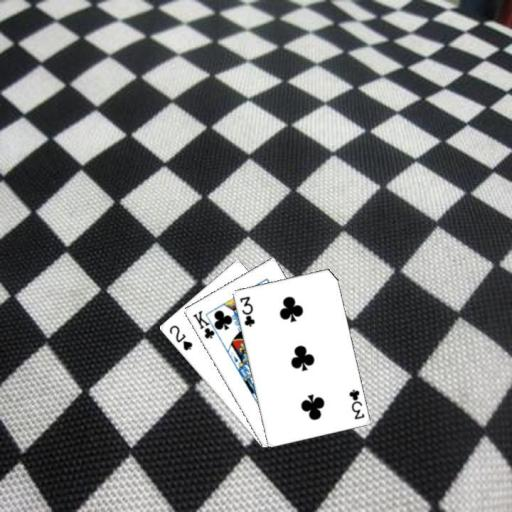2S: (166, 322, 193, 352)
3C: (346, 385, 366, 421), (236, 293, 256, 328)
KC: (189, 307, 221, 340)
